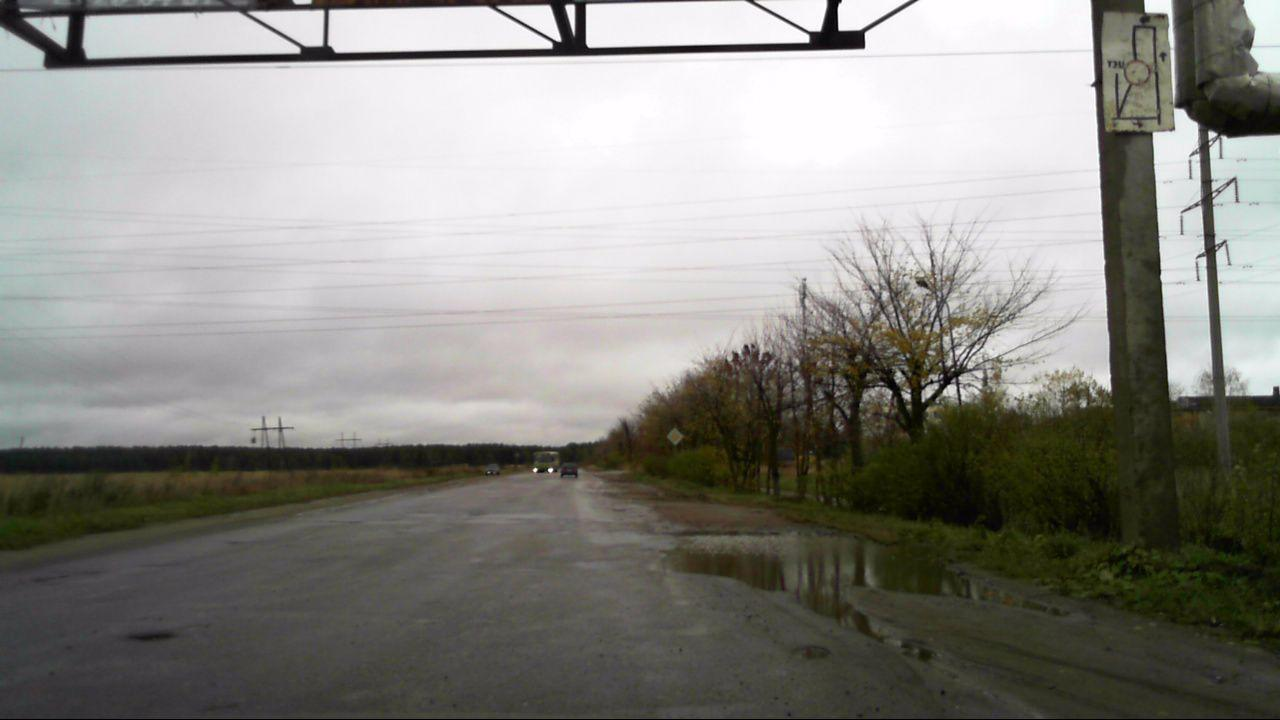pothole: (124, 626, 184, 641)
road_sign: (666, 427, 685, 445)
